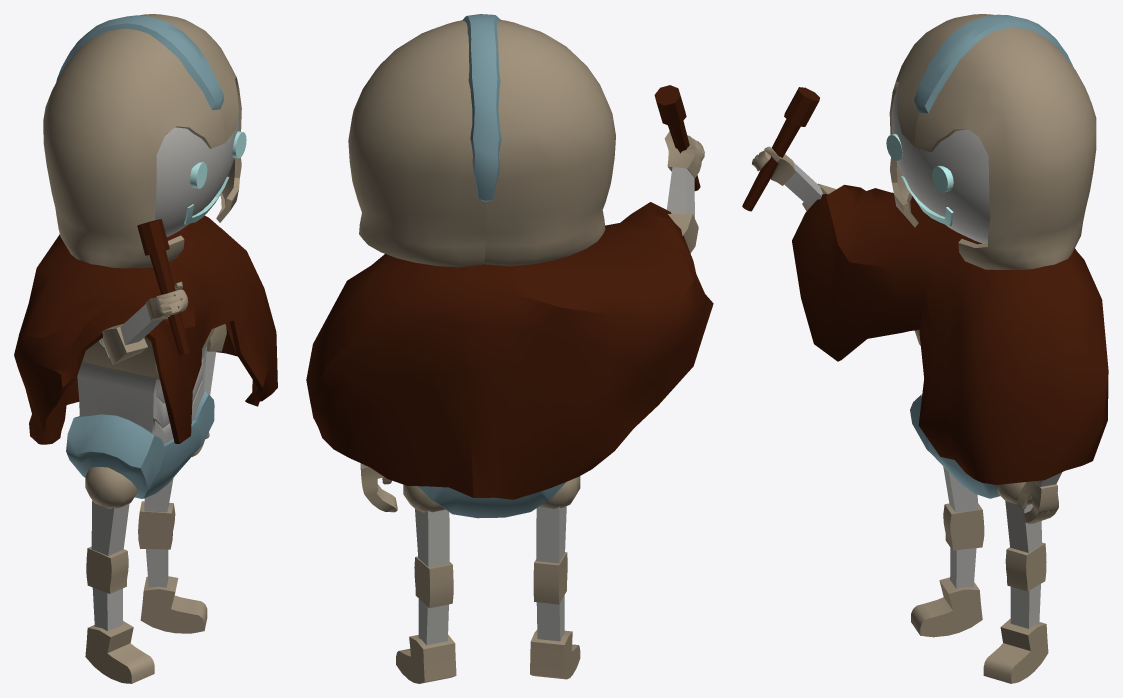
File: GameArtGrundscene_0002_bread_005_cody_single_object.fbx
3 renders of one model, left to right at view 1: azimuth 30°, elevation 25°; view 2: azimuth 150°, elevation 25°; view 3: azimuth 270°, elevation 25°, orthographic. The views are drawn at different scales.
Parts seen in each view (by area): view 1: cody_future; view 2: cody_future; view 3: cody_future.
Boxes of the visible parts, x1,y1,x2,y2 form: cody_future: (14, 14, 277, 683); cody_future: (306, 14, 713, 683); cody_future: (742, 14, 1108, 683).
Bounding box in the file's own units: 2.63 × 5.32 × 2.8.
3 materials, 1 textured.
